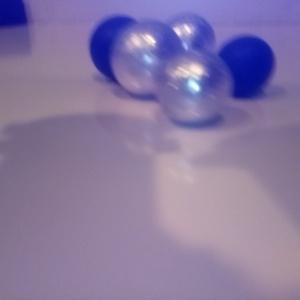alive_ball: (160, 49, 234, 125), (111, 21, 185, 96), (164, 12, 216, 67)
dead_ball: (88, 14, 148, 80), (216, 33, 276, 96)
